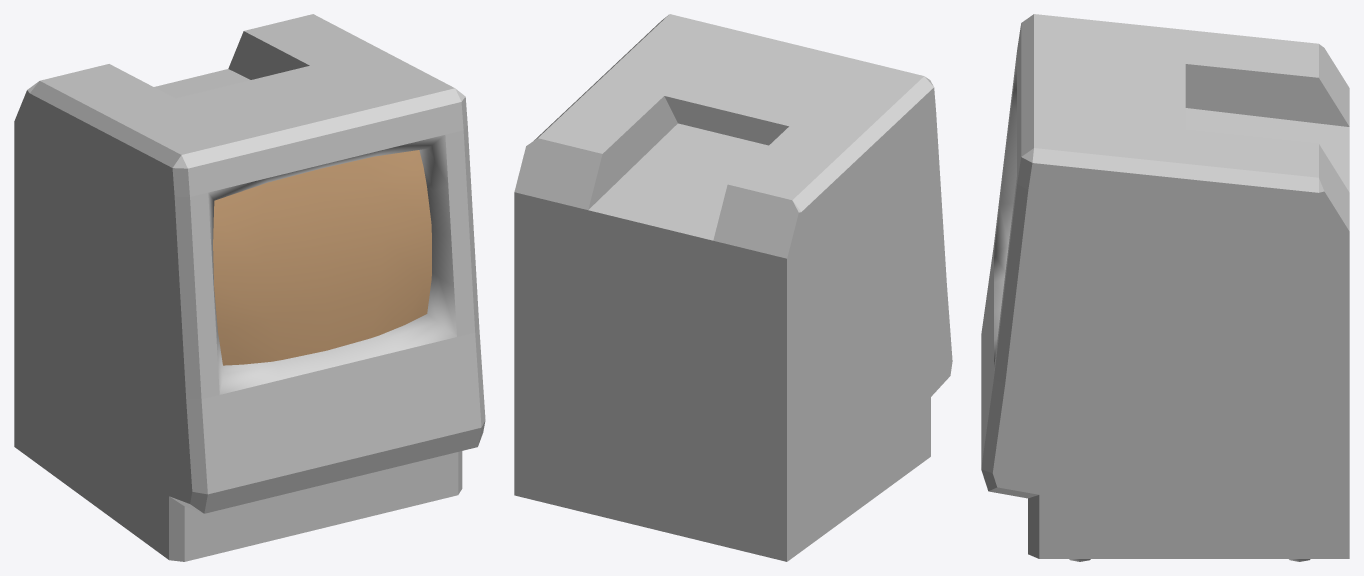
Rendered from Crackintosh.fbx.
3 renders of one model, left to right at view 1: azimuth 30°, elevation 25°; view 2: azimuth 150°, elevation 25°; view 3: azimuth 270°, elevation 25°, orthographic. The views are drawn at different scales.
Parts seen in each view (by area): view 1: Wackintosh; view 2: Wackintosh; view 3: Wackintosh.
Part boxes in pixels (bbox=[...]): Wackintosh: bbox=[14, 14, 485, 561]; Wackintosh: bbox=[514, 14, 952, 561]; Wackintosh: bbox=[981, 14, 1349, 561].
Bounding box in the file's own units: 60.2 × 81.38 × 65.31.
